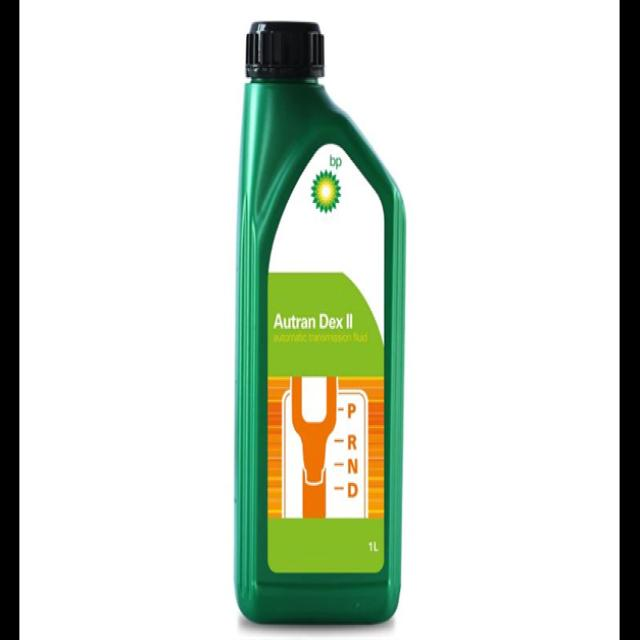coolant: (238, 7, 403, 632)
